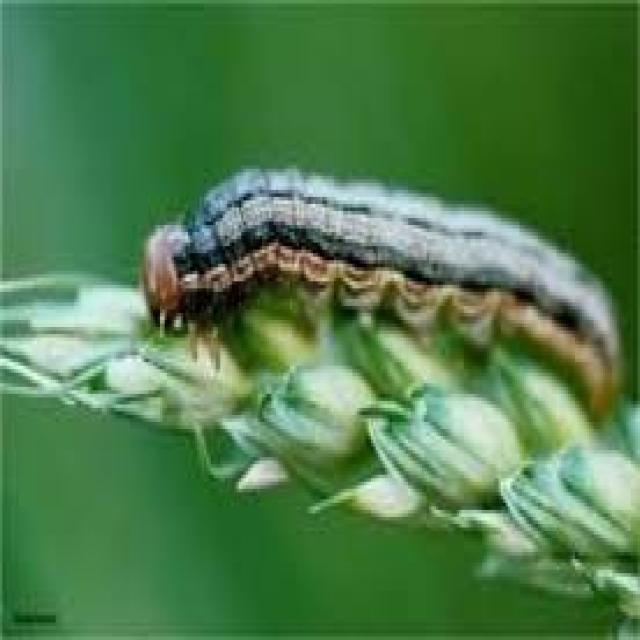Army Worm: (133, 154, 623, 438)
